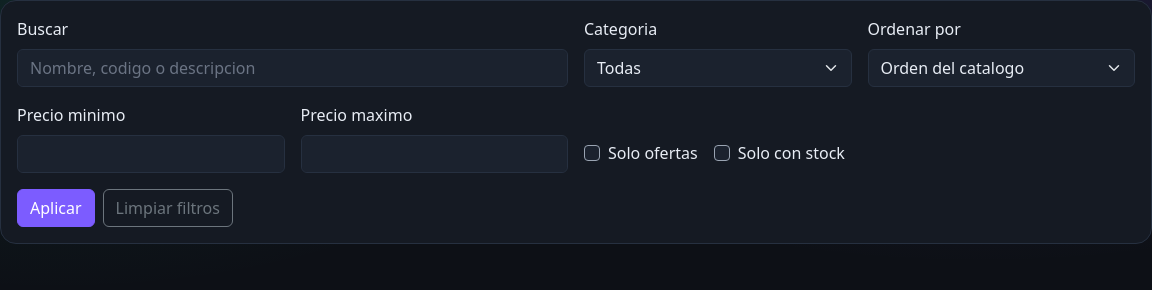
Test: FiltrosCatalogo › avisa cuando el precio minimo supera al maximo
Type "500" into the number field labelled "Precio minimo". click: point(151, 154)
box: [17,135,284,173]
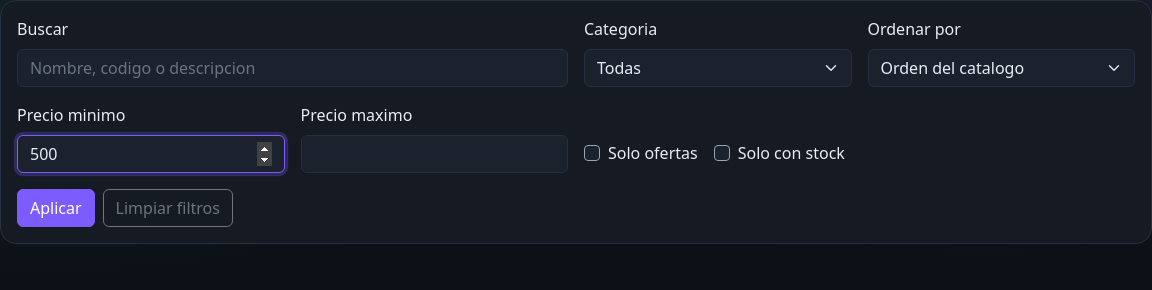
Type "100" into the number field labelled "Precio maximo". click: point(434, 154)
box: [300,135,568,173]
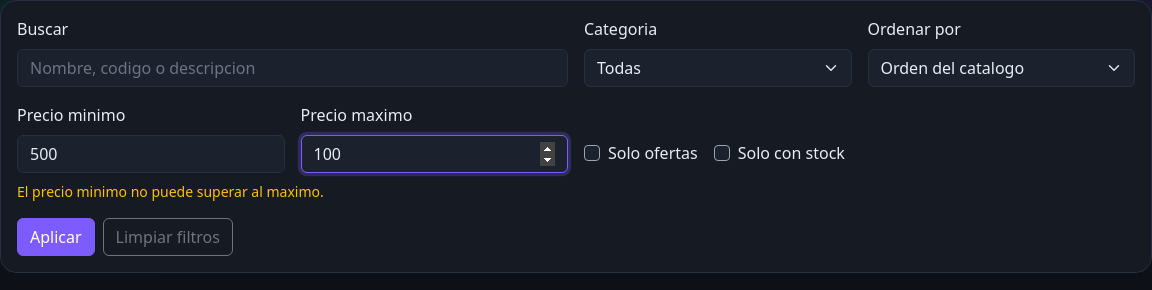
Check: the message reads "El precio minimo no puede superar al maximo.", box [17,182,324,201]
